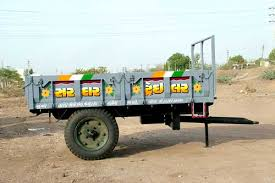wheel: (67, 110, 116, 158)
